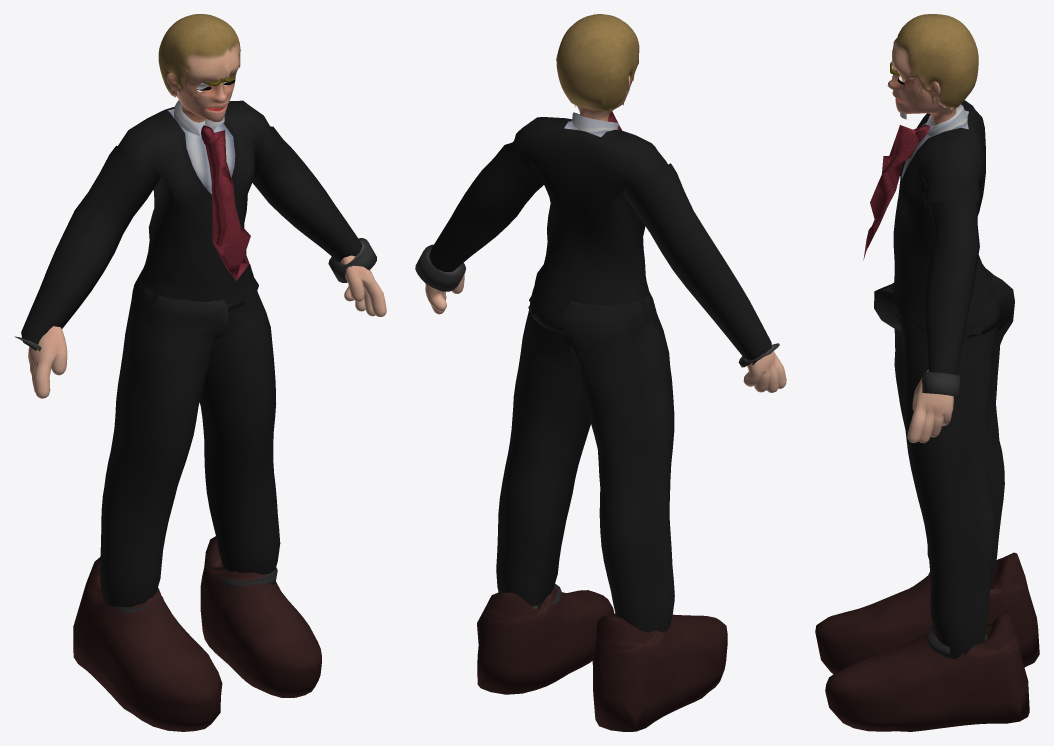
File: locuoMesh.fbx
3 views of the same model, side by side, from view 1: azimuth 30°, elevation 25°; view 2: azimuth 150°, elevation 25°; view 3: azimuth 270°, elevation 25° (orthographic). The views are drawn at different scales.
Parts seen in each view (by area): view 1: shoes, head, tie1, hands; view 2: shoes, head, hands; view 3: shoes, head, tie1, hands.
Part boxes in pixels (box(x1,y1,x2,y2)): shoes: box(14, 100, 376, 731); head: box(158, 14, 240, 122); tie1: box(201, 125, 250, 280); hands: box(28, 255, 386, 398); shoes: box(415, 112, 779, 731); head: box(556, 14, 639, 121); hands: box(425, 274, 786, 392); shoes: box(815, 100, 1039, 731); head: box(887, 14, 978, 125); tie1: box(863, 125, 930, 260); hands: box(907, 369, 953, 443).
Size of the model in its own units: 120 by 213 by 63.96.
